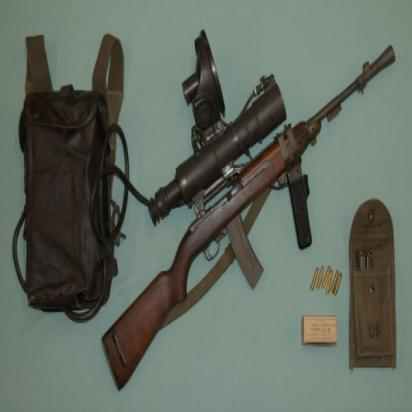Gun: (103, 44, 397, 396)
